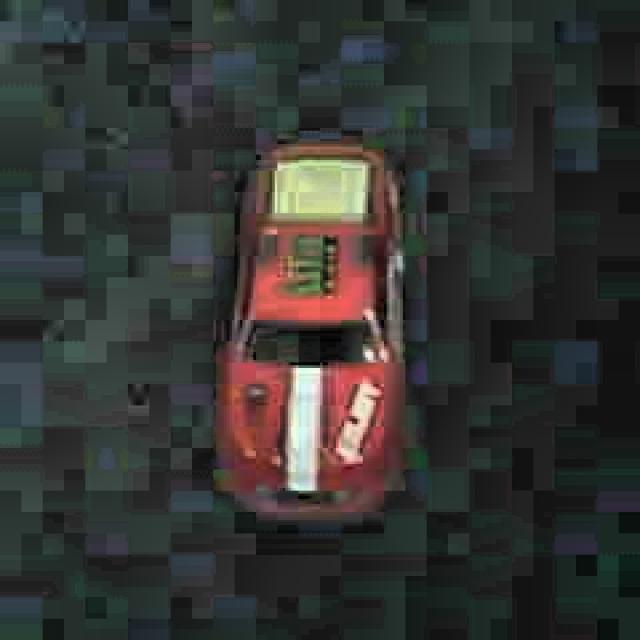car: (210, 132, 415, 526)
